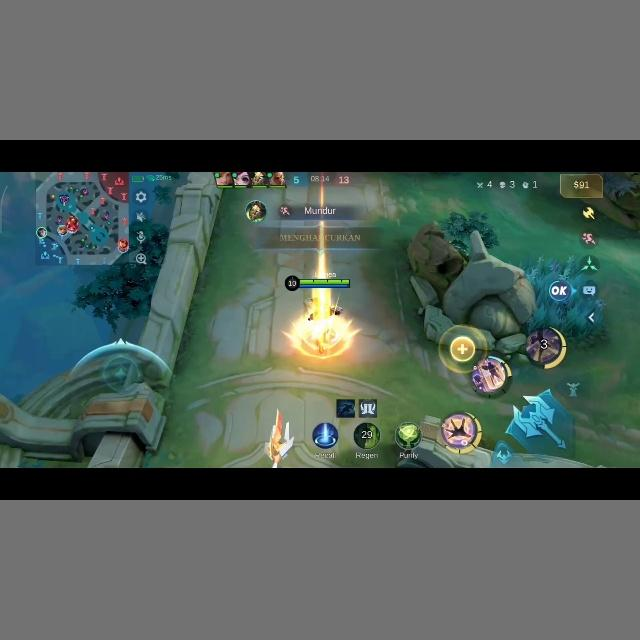hero_self: (299, 300, 344, 358)
hp_self: (282, 274, 355, 290)
